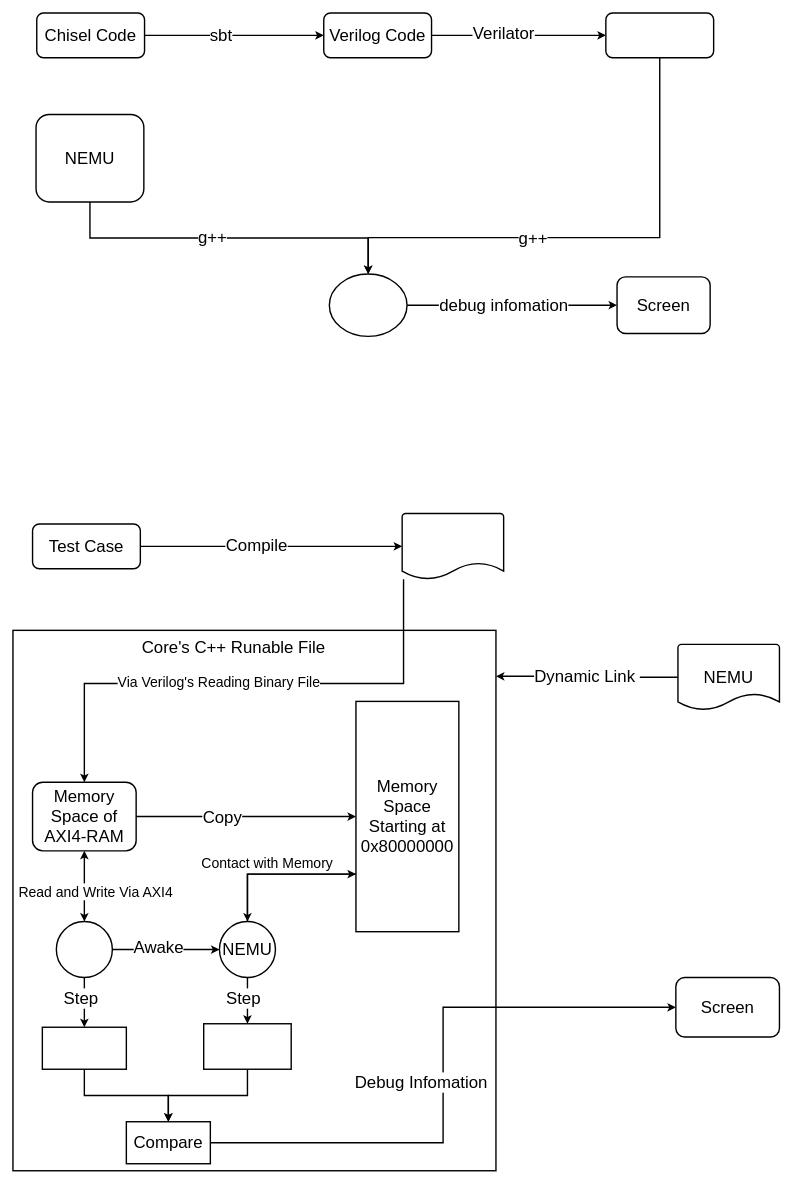
Some shapes in this 792 by 1183 pixel diagram are drawn without their labels. The box of each missing label's shape, as (x1, y1, x2, y2) in pixels:
Binary File: (401, 512, 504, 580)
C++ Code: (605, 12, 714, 58)
Core: (55, 920, 113, 978)
Core's Registers: (41, 1026, 127, 1070)
NEME'S Registers: (203, 1023, 292, 1070)
Runable File: (328, 273, 407, 337)
